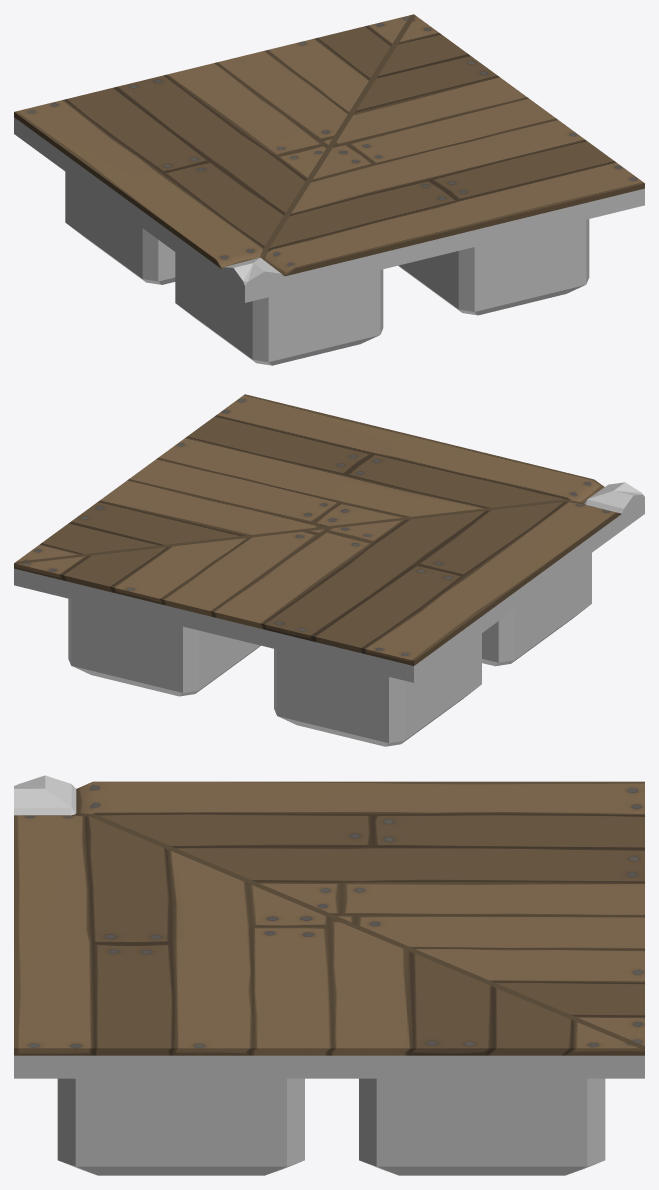
Rendered from SM_Bld_Dock_Platform_T_02.fbx.
The picture shows the model from 3 angles, top to bottom: view 1: azimuth 30°, elevation 25°; view 2: azimuth 150°, elevation 25°; view 3: azimuth 270°, elevation 25°; orthographic projection. The views are drawn at different scales.
Parts seen in each view (by area): view 1: SM_Bld_Dock_Platform_T_02; view 2: SM_Bld_Dock_Platform_T_02; view 3: SM_Bld_Dock_Platform_T_02.
Part boxes in pixels (bbox=[...]): SM_Bld_Dock_Platform_T_02: bbox=[14, 14, 644, 365]; SM_Bld_Dock_Platform_T_02: bbox=[14, 394, 644, 746]; SM_Bld_Dock_Platform_T_02: bbox=[14, 775, 644, 1175].
Size of the model in its own units: 250 by 71.48 by 250.
